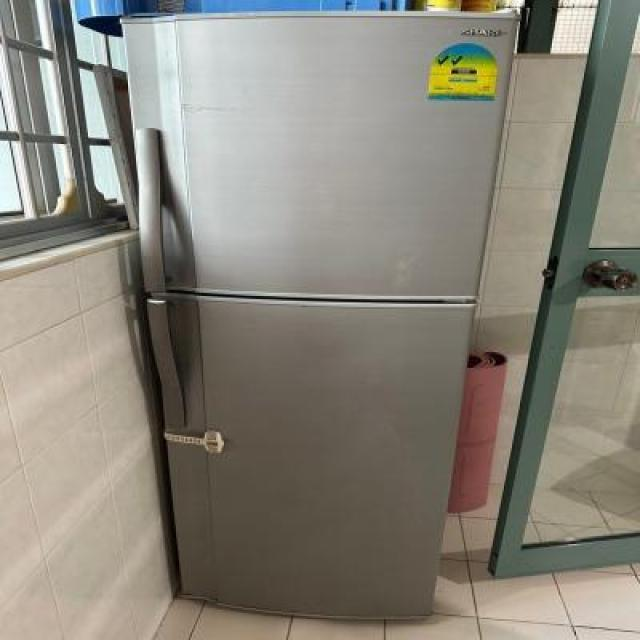refrigerator: (118, 11, 526, 622)
